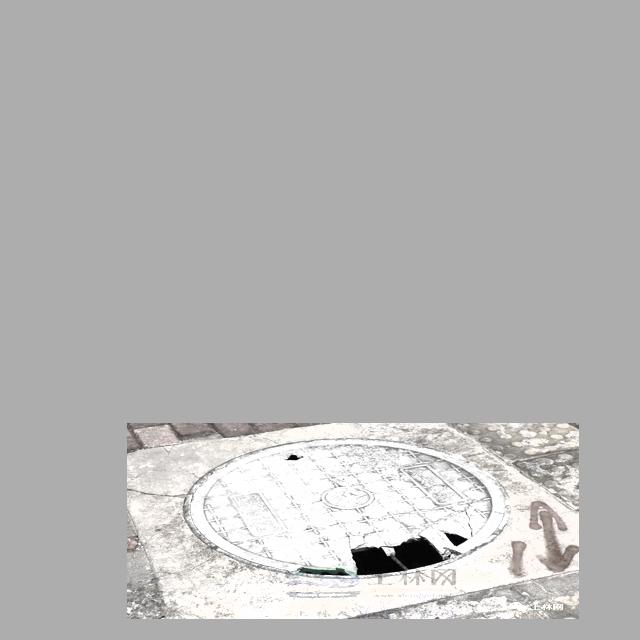broke: (172, 437, 518, 587)
